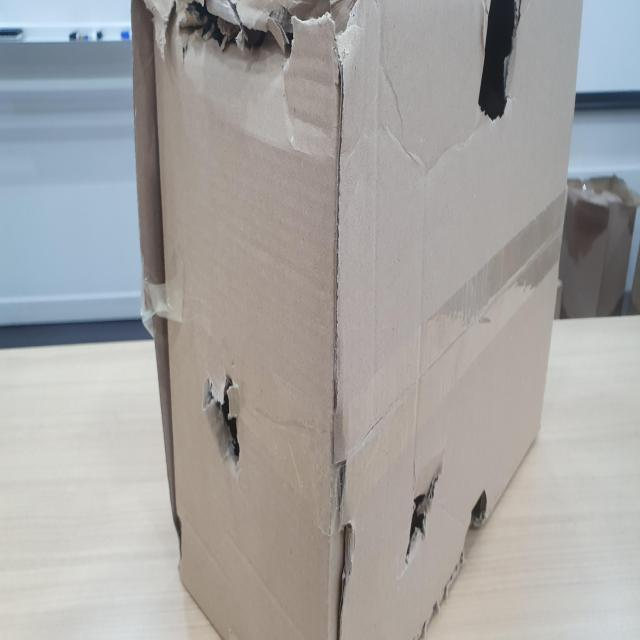damaged: (158, 1, 366, 61), (476, 4, 523, 119), (203, 362, 245, 472), (408, 467, 443, 569), (463, 487, 486, 568)
